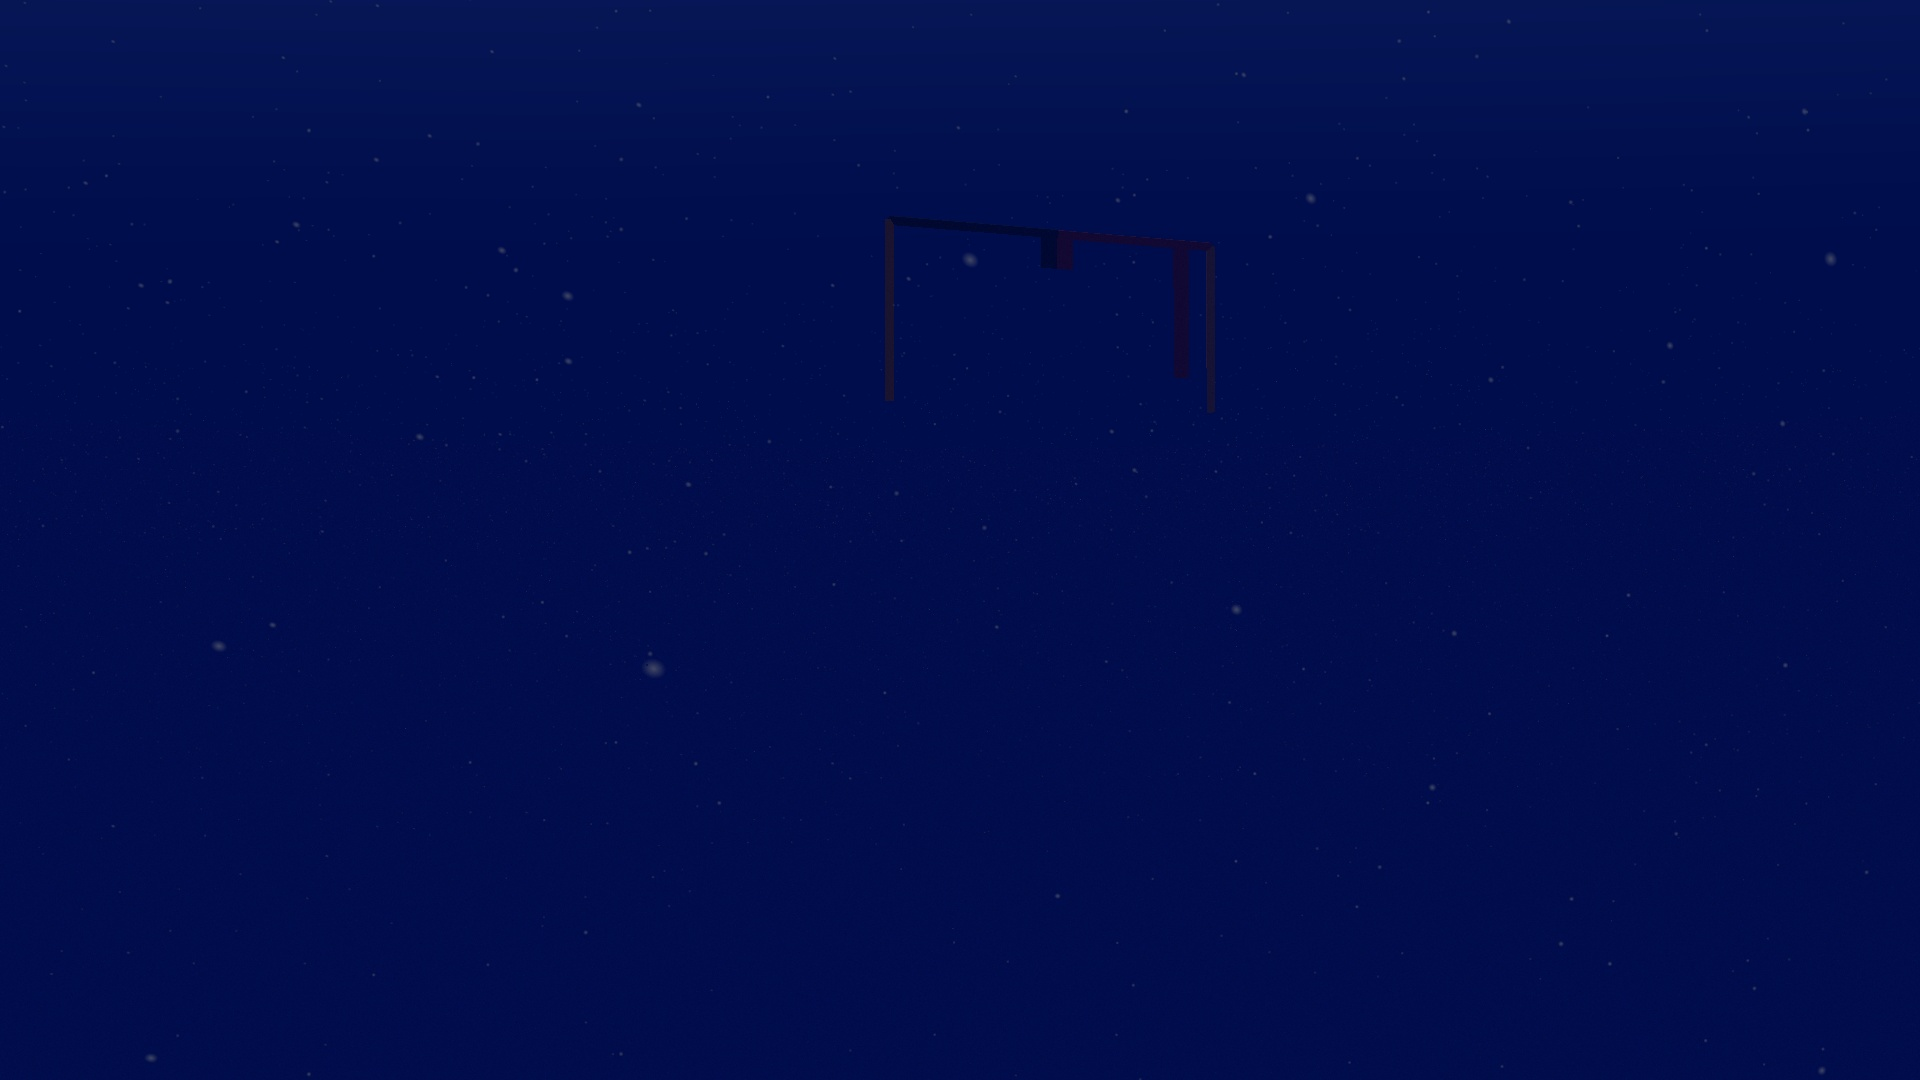Gate: (880, 211, 1222, 417)
